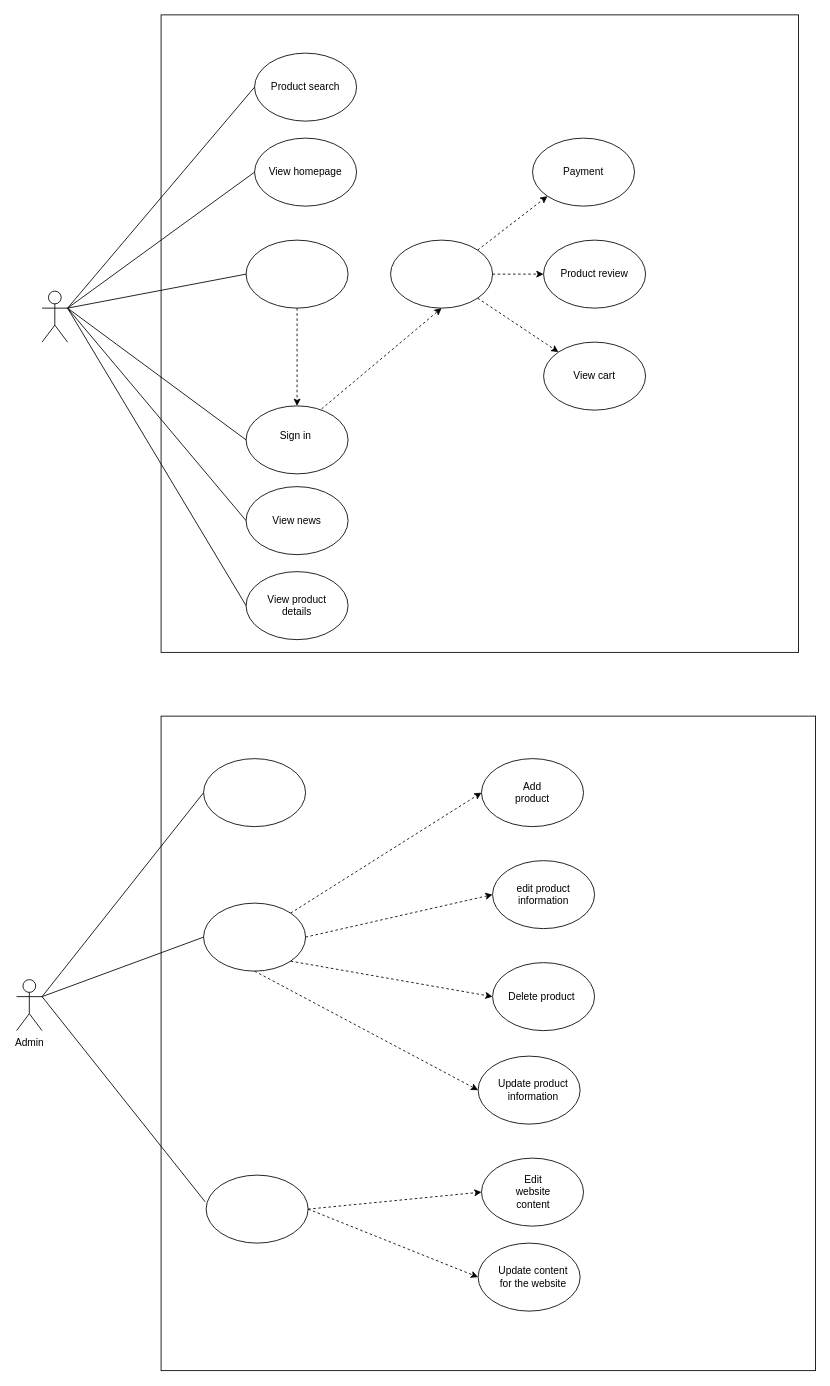
The diagram is 830 pixels wide and 1386 high, and some of its shapes have lost their labels. The box of each missing label's shape, as (x1, y1, x2, y2) in pixels:
Edit web page: (205, 1174, 308, 1243)
Manage user information: (203, 758, 306, 827)
Product management: (203, 902, 306, 971)
Purchase: (390, 239, 493, 308)
Sign up: (245, 239, 348, 308)
User: (41, 290, 68, 342)
